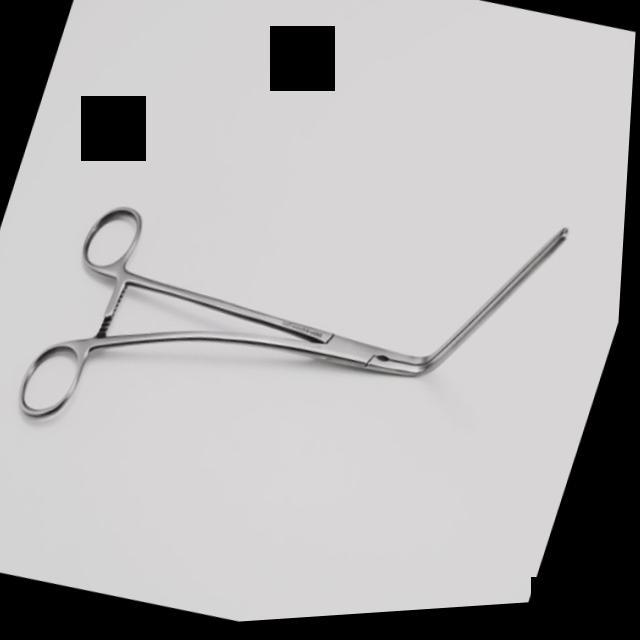Right Angle Colon Clamp: (2, 79, 594, 558)
